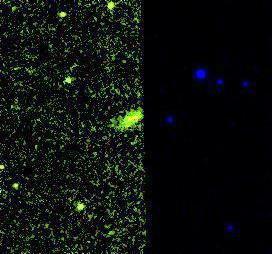star: (0, 172, 29, 202)
